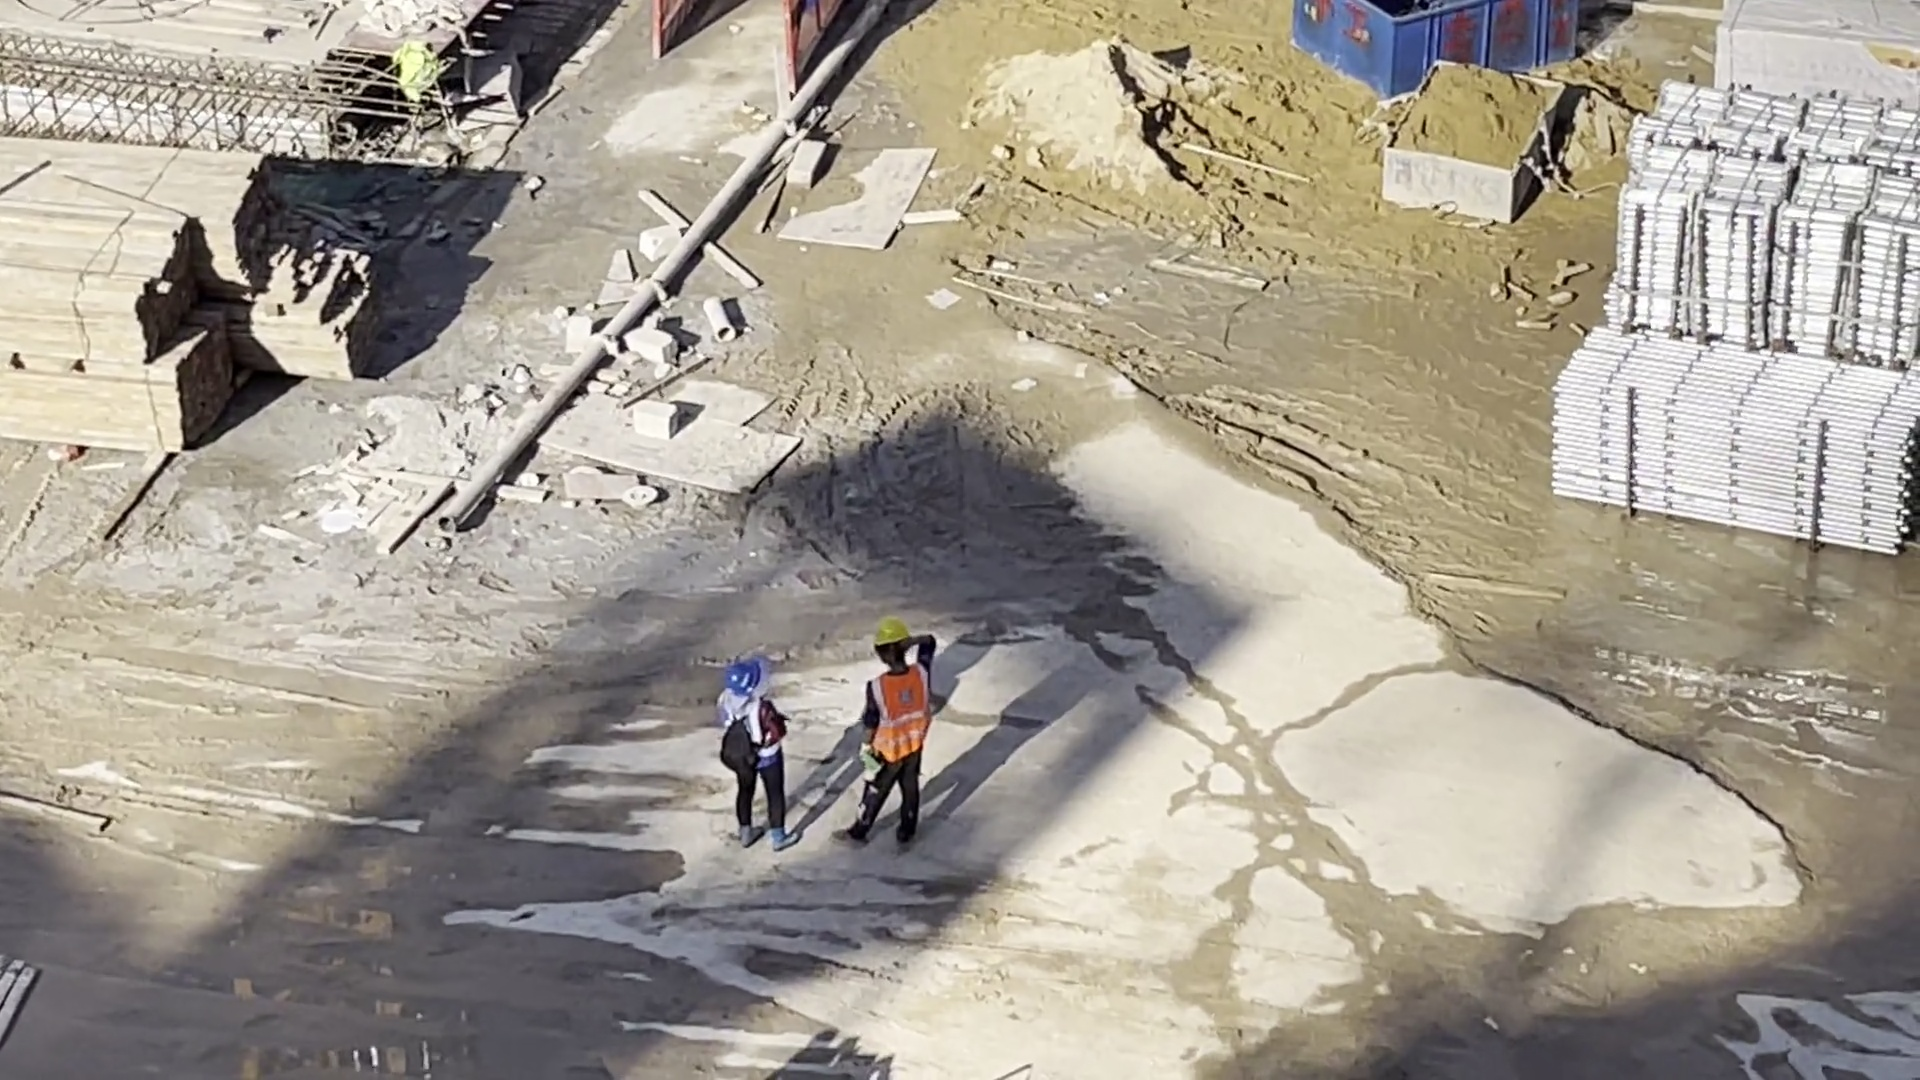fence: (658, 4, 848, 72)
helmet: (725, 663, 761, 693), (874, 620, 910, 646)
hopper: (1385, 62, 1566, 227), (1296, 1, 1578, 93)
person: (851, 624, 933, 851), (716, 660, 808, 850)
scaffold: (1621, 92, 1920, 357), (1556, 334, 1920, 550)
vest: (871, 666, 928, 756), (719, 700, 777, 766)
wood: (1, 134, 273, 451)
